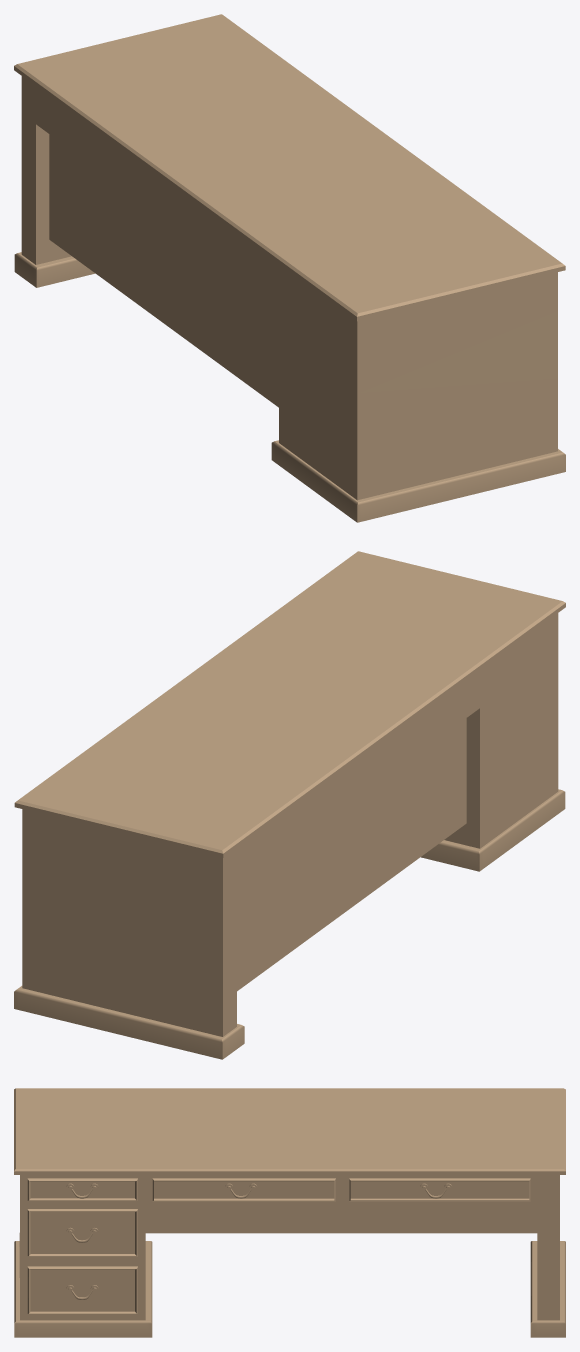
File: Desk_Model.fbx
The picture shows the model from 3 angles, top to bottom: view 1: azimuth 30°, elevation 25°; view 2: azimuth 150°, elevation 25°; view 3: azimuth 270°, elevation 25°; orthographic projection. The views are drawn at different scales.
Visible parts, largest first — view 1: polySurface1662; view 2: polySurface1662; view 3: polySurface1662.
Boxes of the visible parts, <box> form: polySurface1662: <box>14,14,565,522</box>; polySurface1662: <box>14,551,565,1059</box>; polySurface1662: <box>14,1088,565,1337</box>.
Bounding box in the file's own units: 2.79 × 2.66 × 7.93.
